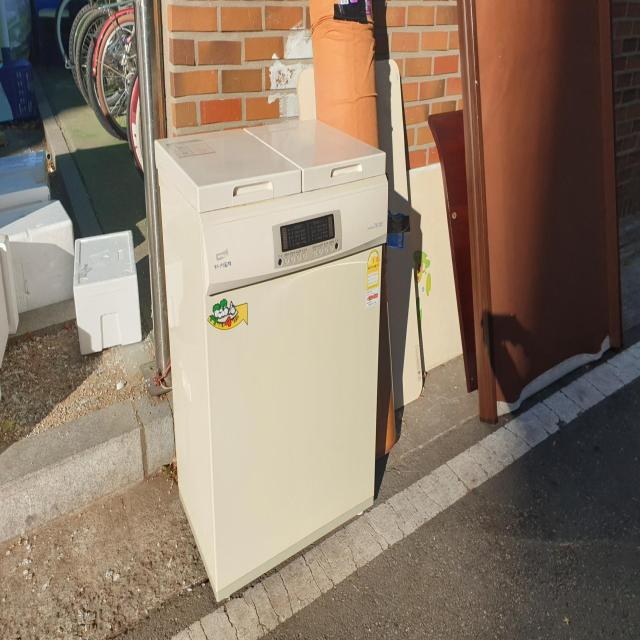refrigerator: (153, 117, 388, 601)
